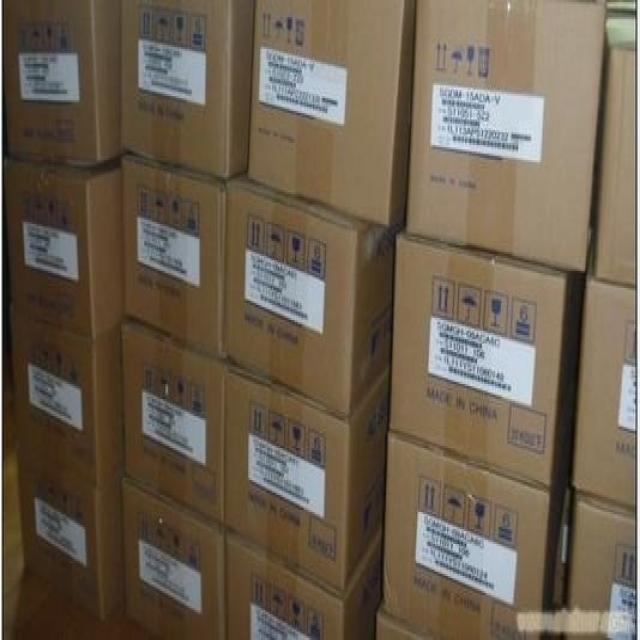box: (406, 1, 608, 275), (390, 232, 577, 487), (224, 169, 406, 418), (224, 363, 392, 593), (247, 2, 416, 229), (382, 430, 564, 638), (122, 152, 227, 362), (9, 152, 125, 339), (123, 318, 225, 528), (13, 304, 125, 486), (1, 0, 123, 167), (19, 457, 125, 629), (572, 236, 637, 511), (226, 530, 383, 638), (123, 476, 227, 638), (591, 40, 638, 285), (564, 490, 636, 638), (377, 606, 436, 637)
